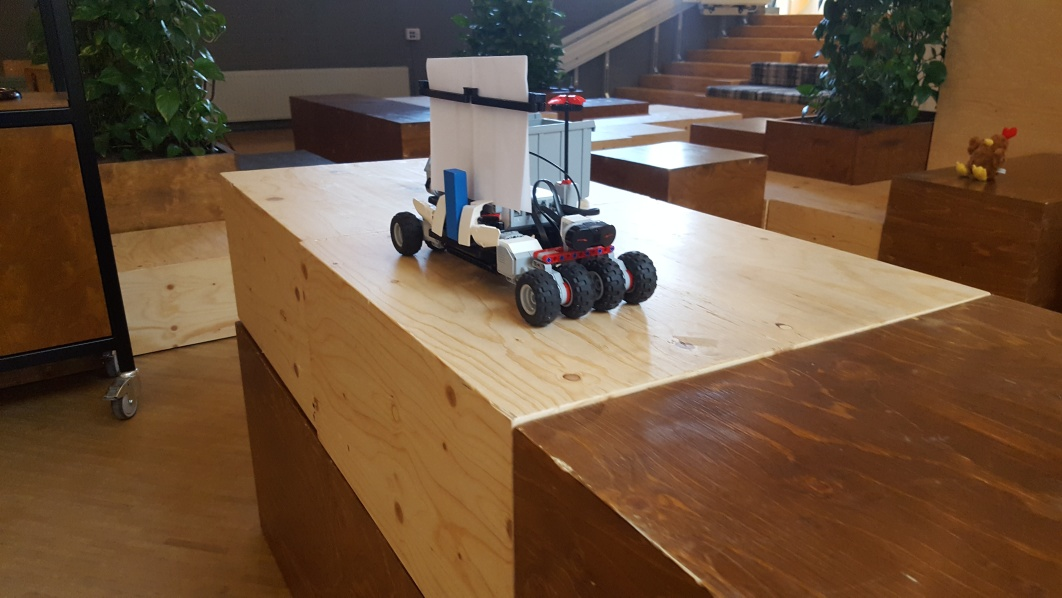beam: (441, 164, 469, 240)
